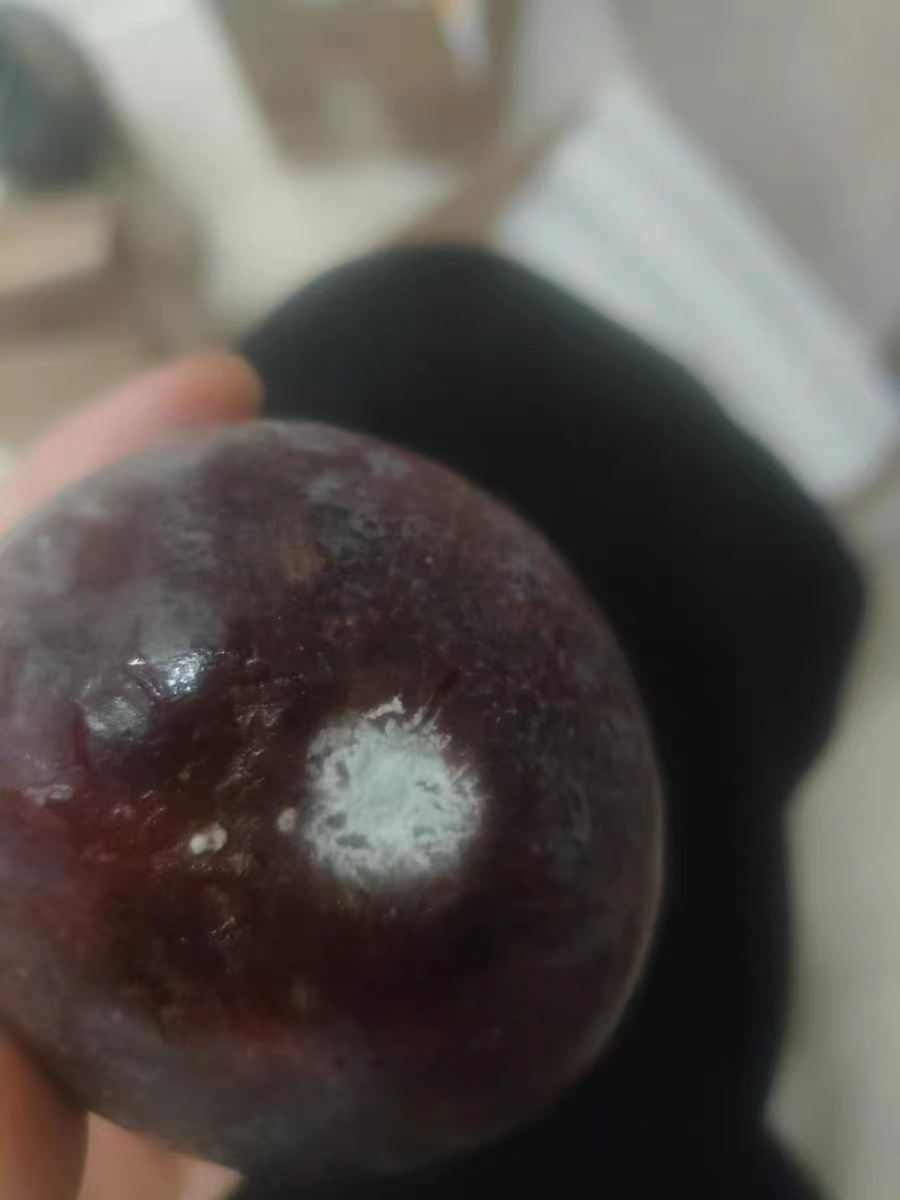plum_C: (2, 421, 666, 1179)
